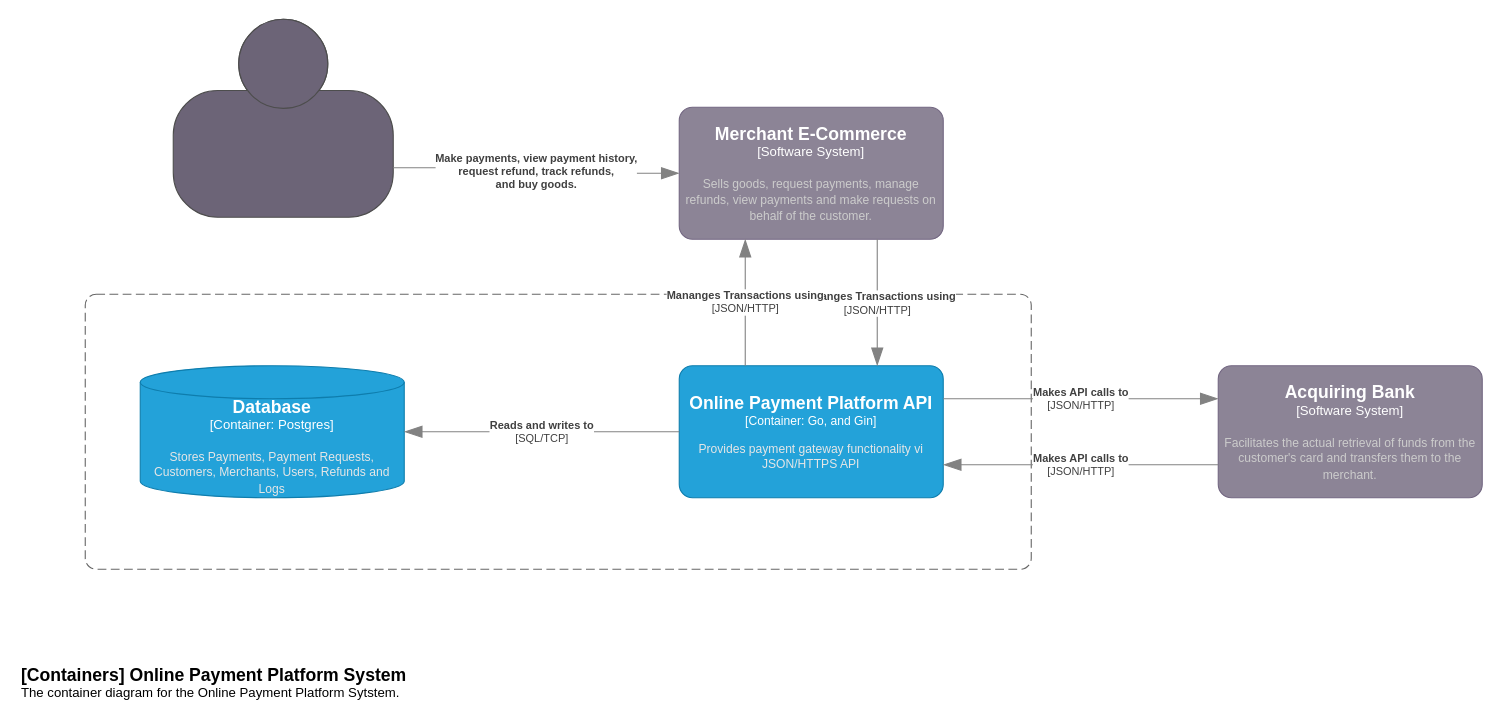
Image size: 1502x722. Some labels were removed from this diagram. The box of each missing label's shape, as (x1, y1, x2, y2) in pixels:
Customer [Person] Customer of the Merchat E-Commerce: (172, 18, 393, 217)
Online Payment Platform System [Software System]: (84, 293, 1031, 569)
